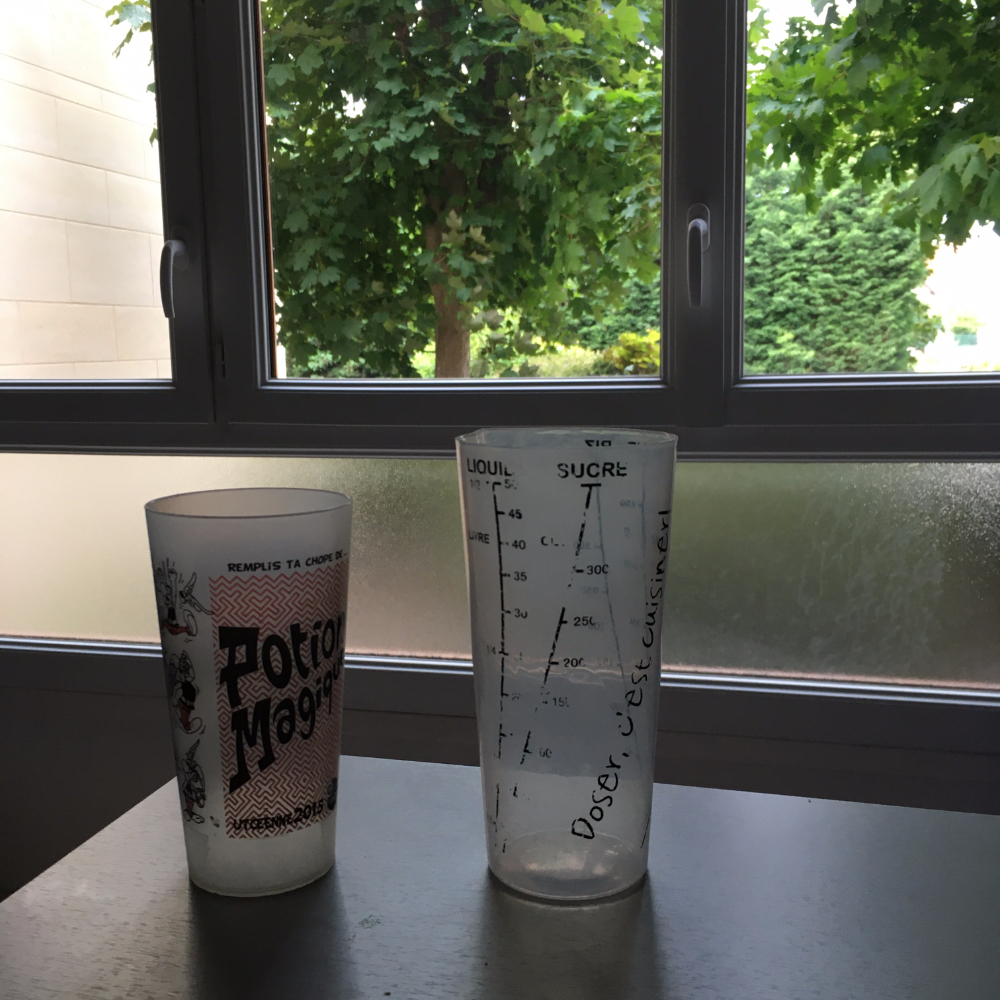ecocup: (143, 488, 352, 896)
